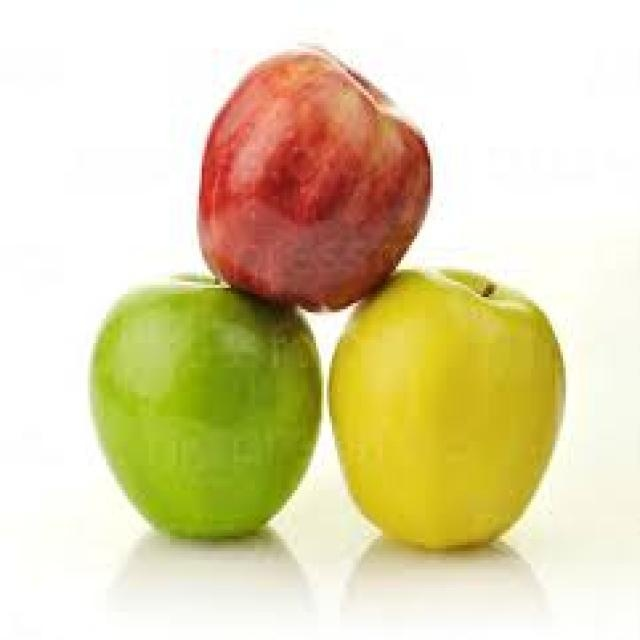agrume: (309, 243, 571, 570), (62, 258, 318, 573), (188, 29, 420, 344)
